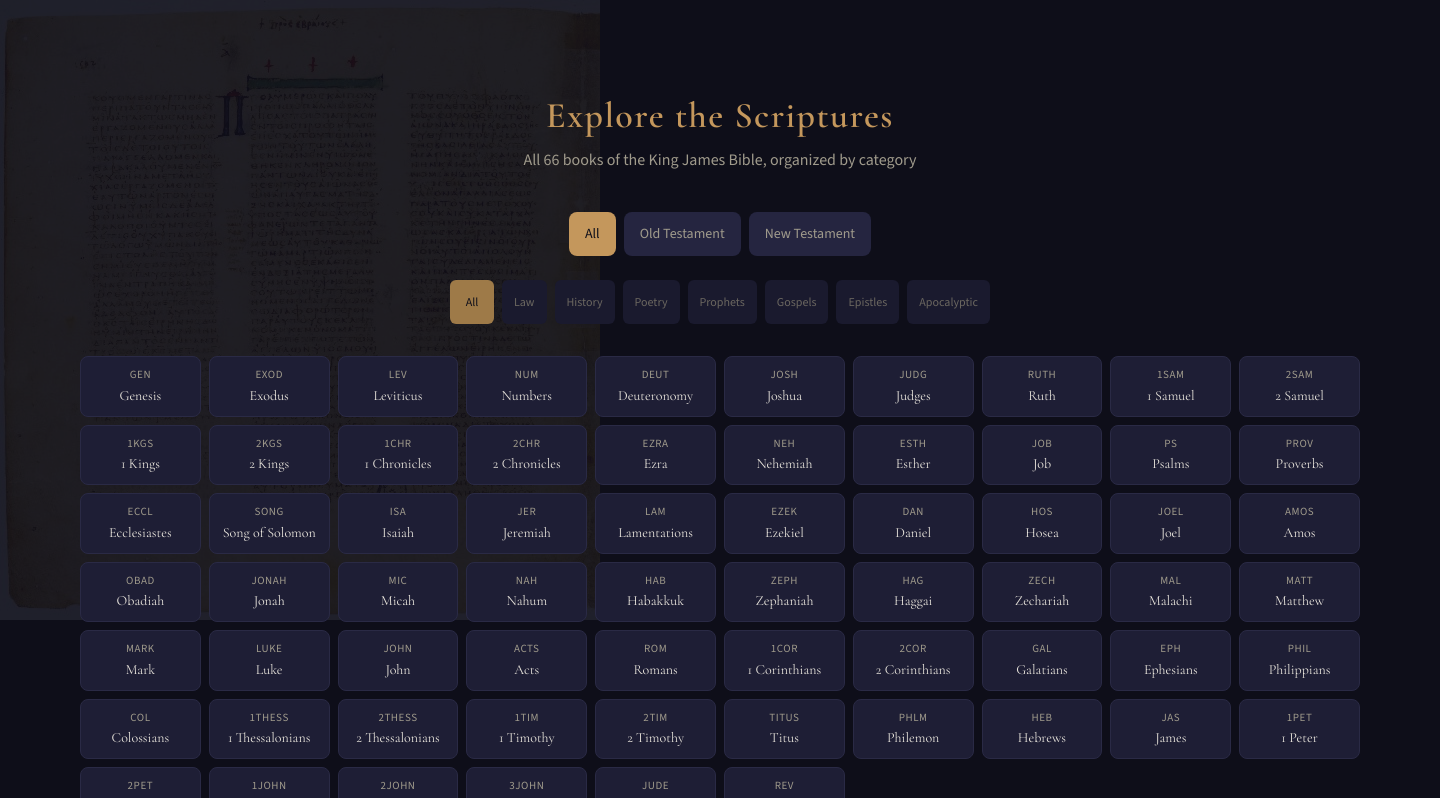
Test: BooksGrid › clicking 'New Testament' filters to NT books only
This screenshot has width=1440, height=798.
Click the tab "New Testament" at (810,234), box [749,212,871,256]
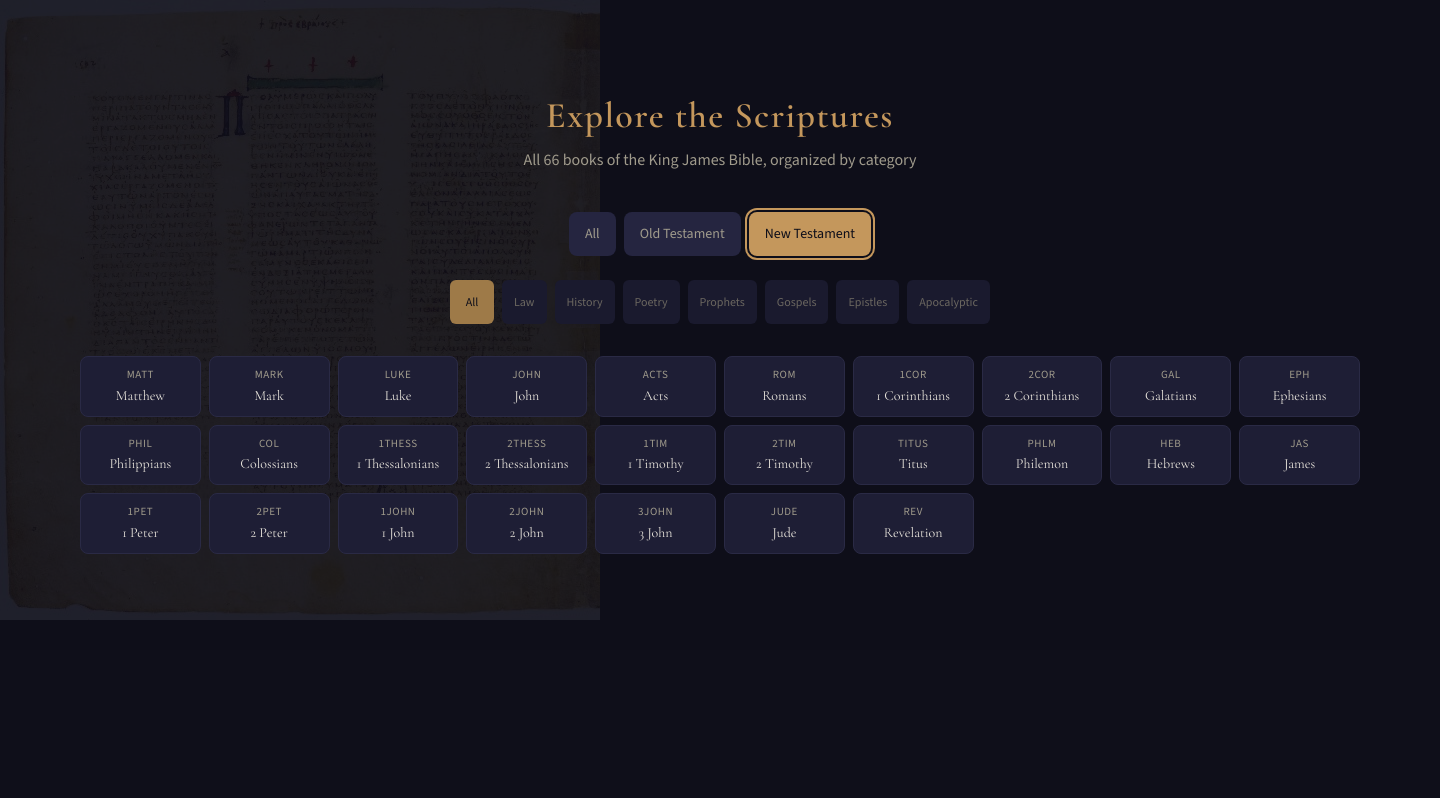
Expected: the text "Matthew" is shown, [116,386,165,404]
Now the link "Genesis" is gone
